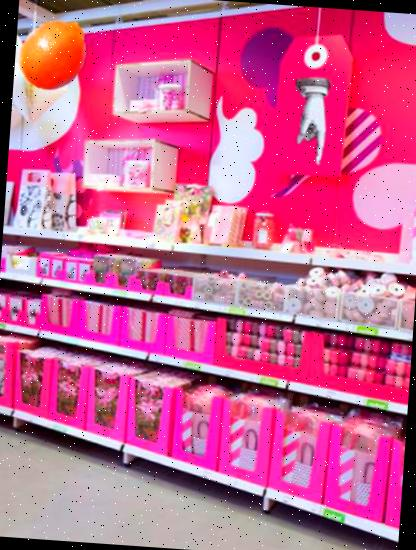Tangelo: (14, 13, 96, 94)
